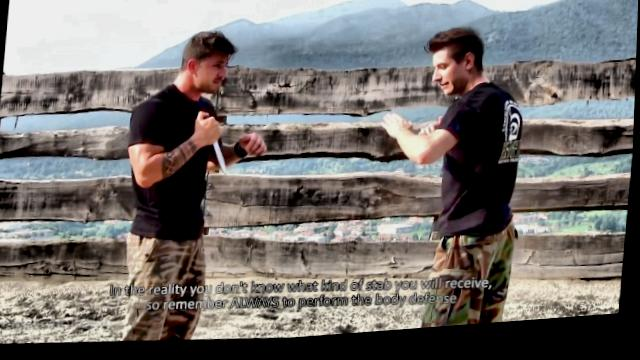knife: (191, 110, 238, 185)
